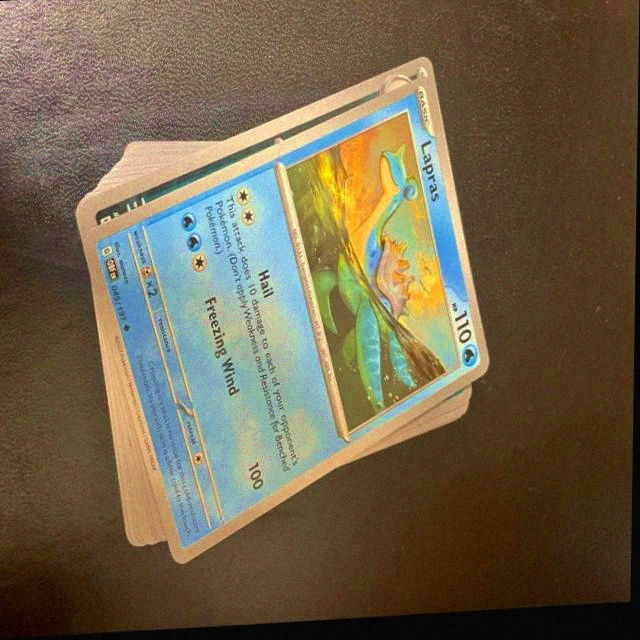card: (85, 79, 490, 567)
